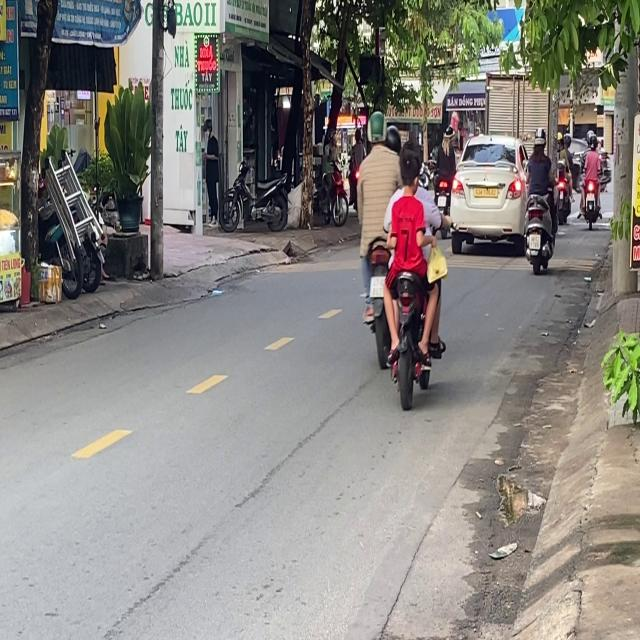helmet: (366, 109, 386, 147), (385, 123, 401, 151)
licenseplate: (379, 130, 448, 407), (354, 108, 401, 364)
motorcyclist: (398, 146, 421, 198)
nohelmet: (370, 276, 384, 296)
